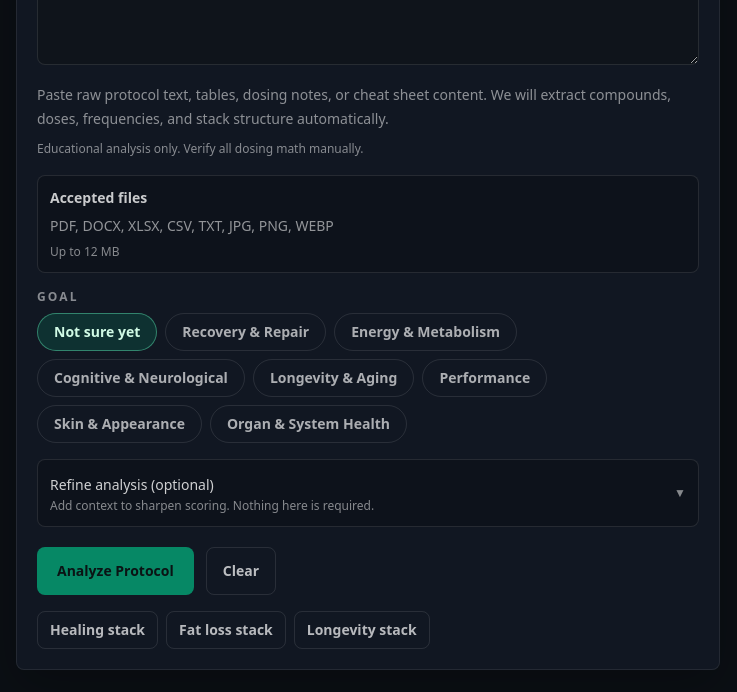
Test: AnalyzerExperience › runs analysis from Paste mode and transitions to the report stage
(page scrolled)
// Select the Recovery & Repair goal so a token is sent.
Step 1. Click the button "Recovery & Repair" → [246, 332], box left=165, top=313, right=326, bottom=351
(page scrolled)
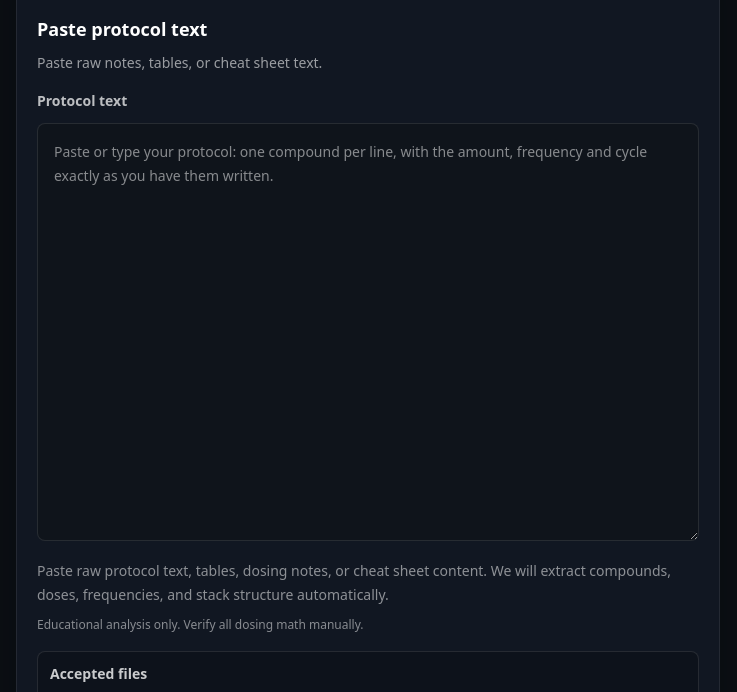
Step 2. Type "BPC-157 500mcg daily" into the text box → [368, 332], box left=37, top=123, right=699, bottom=541
(page scrolled)
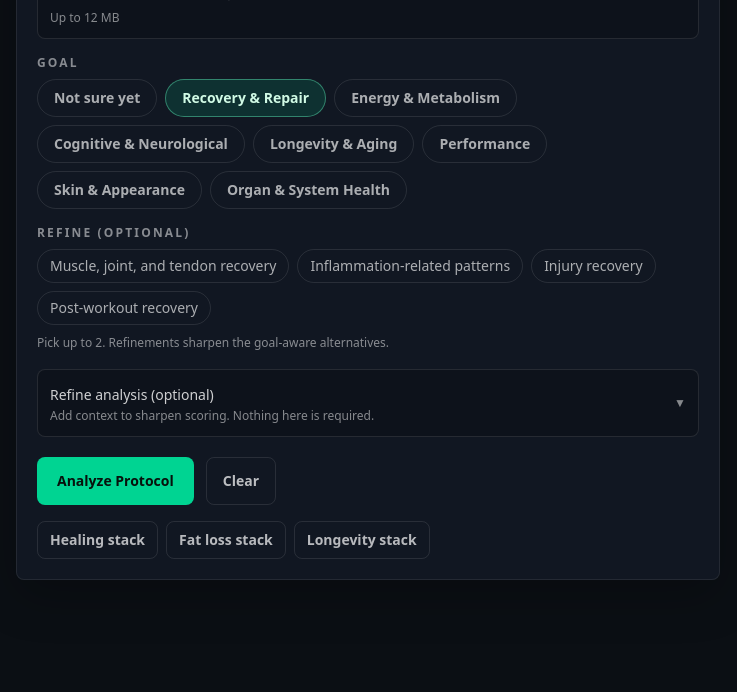
Step 3. Click the button "Analyze Protocol" → [115, 481], box left=37, top=457, right=194, bottom=505
(page scrolled)
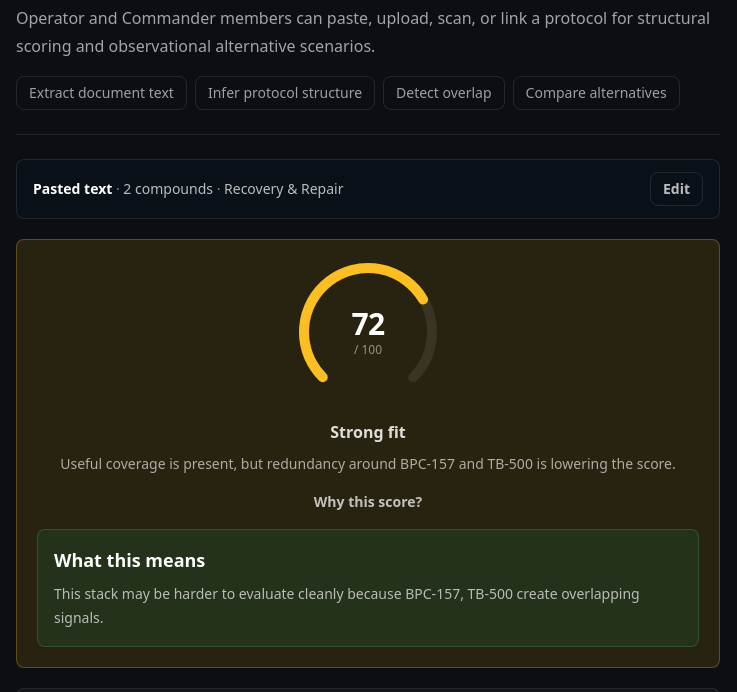
expect the element named "BioStack score 72 out of 100" is shown: met, box left=296, top=260, right=440, bottom=404
